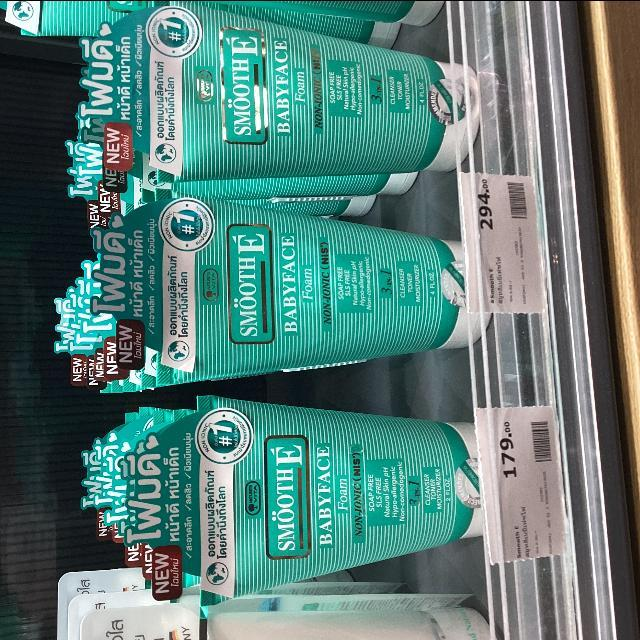Squeeze Tube: (30, 0, 511, 640), (93, 216, 519, 426), (89, 23, 487, 196), (129, 417, 483, 583)
